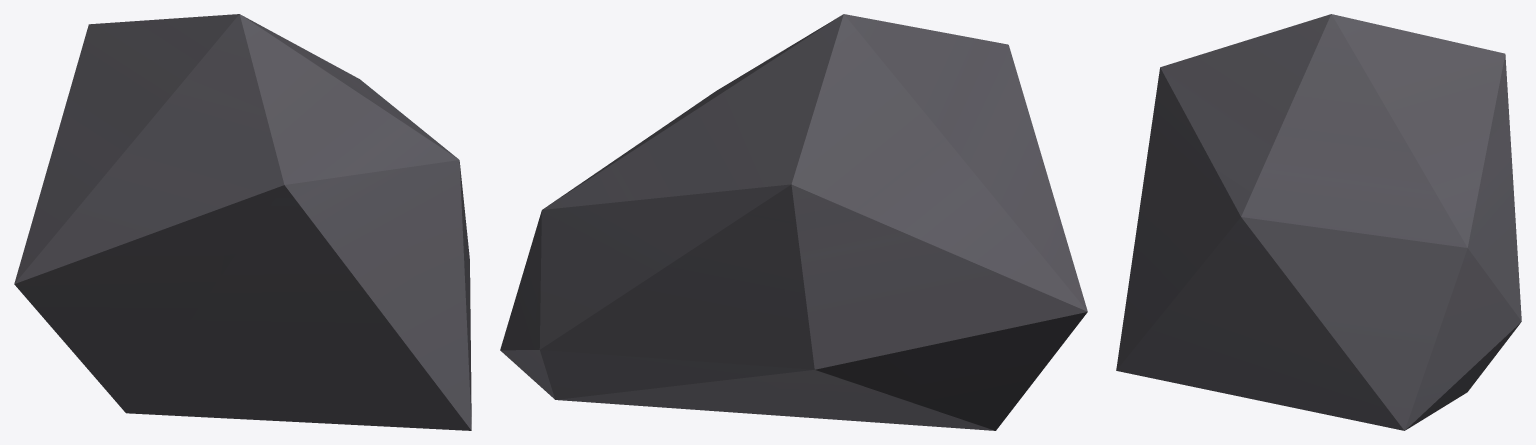
File: Gradient_Rock_08.glb
The picture shows the model from 3 angles, left to right: view 1: azimuth 30°, elevation 25°; view 2: azimuth 150°, elevation 25°; view 3: azimuth 270°, elevation 25°; orthographic projection. The views are drawn at different scales.
Parts seen in each view (by area): view 1: Rock 08 g; view 2: Rock 08 g; view 3: Rock 08 g.
Boxes of the visible parts, x1,y1,x2,y2 form: Rock 08 g: (14, 14, 471, 430); Rock 08 g: (500, 14, 1087, 430); Rock 08 g: (1116, 14, 1521, 430).
Size of the model in its own units: 0.743 by 0.5139 by 0.6001.
Materials: 1 (1 with a texture image).
